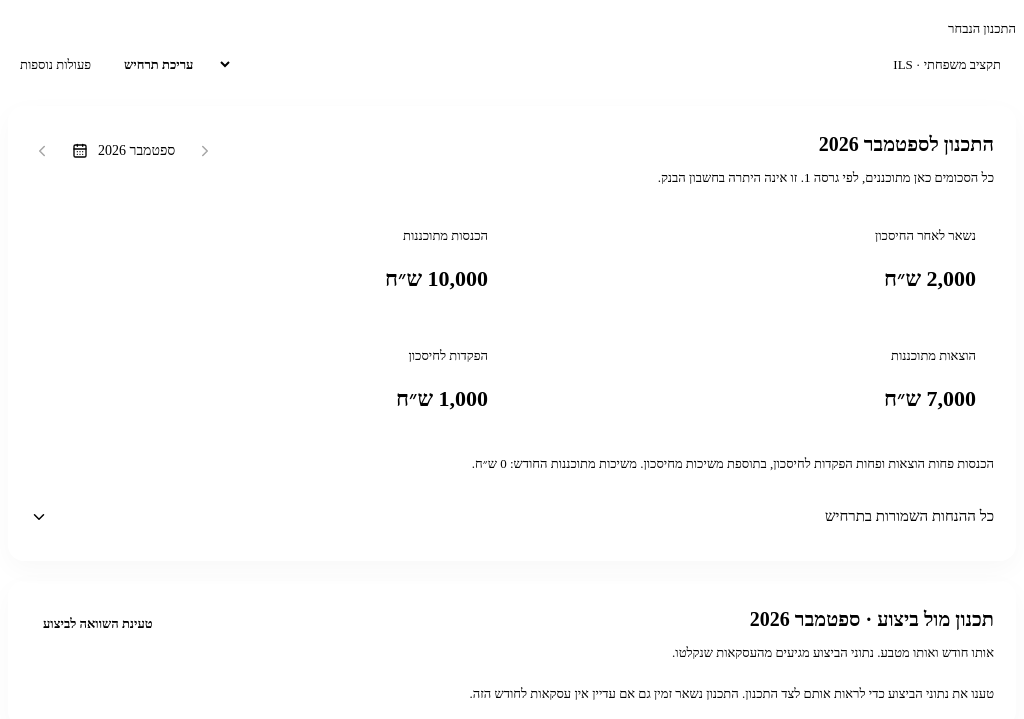
Test: Planning feature presentation › shows signed differences only for a complete, matching revision
Step 1. Click the button "טעינת השוואה לביצוע" → (98, 624), box [30, 603, 166, 645]
(page scrolled)
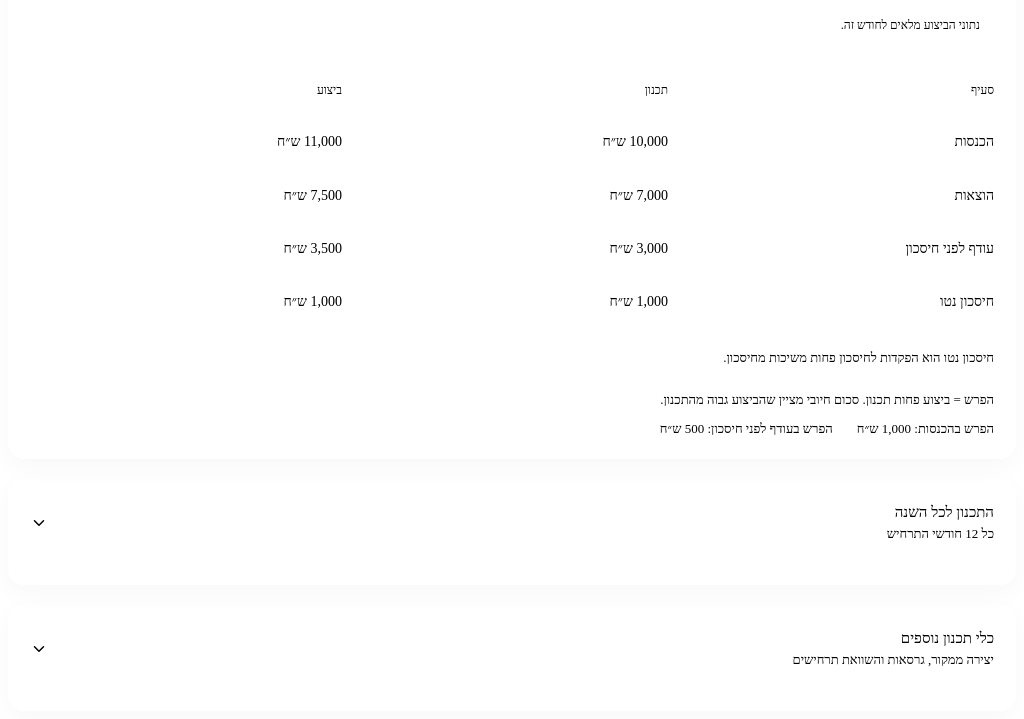
Check: the text "נתוני הביצוע מלאים לחודש זה." is shown, box [841, 18, 980, 32]
Check: the text "הפרש = ביצוע פחות תכנון" is shown, box [660, 392, 994, 407]
Check: the text "הפרש בהכנסות: 1,000 ש״ח" is shown, box [911, 421, 994, 436]
